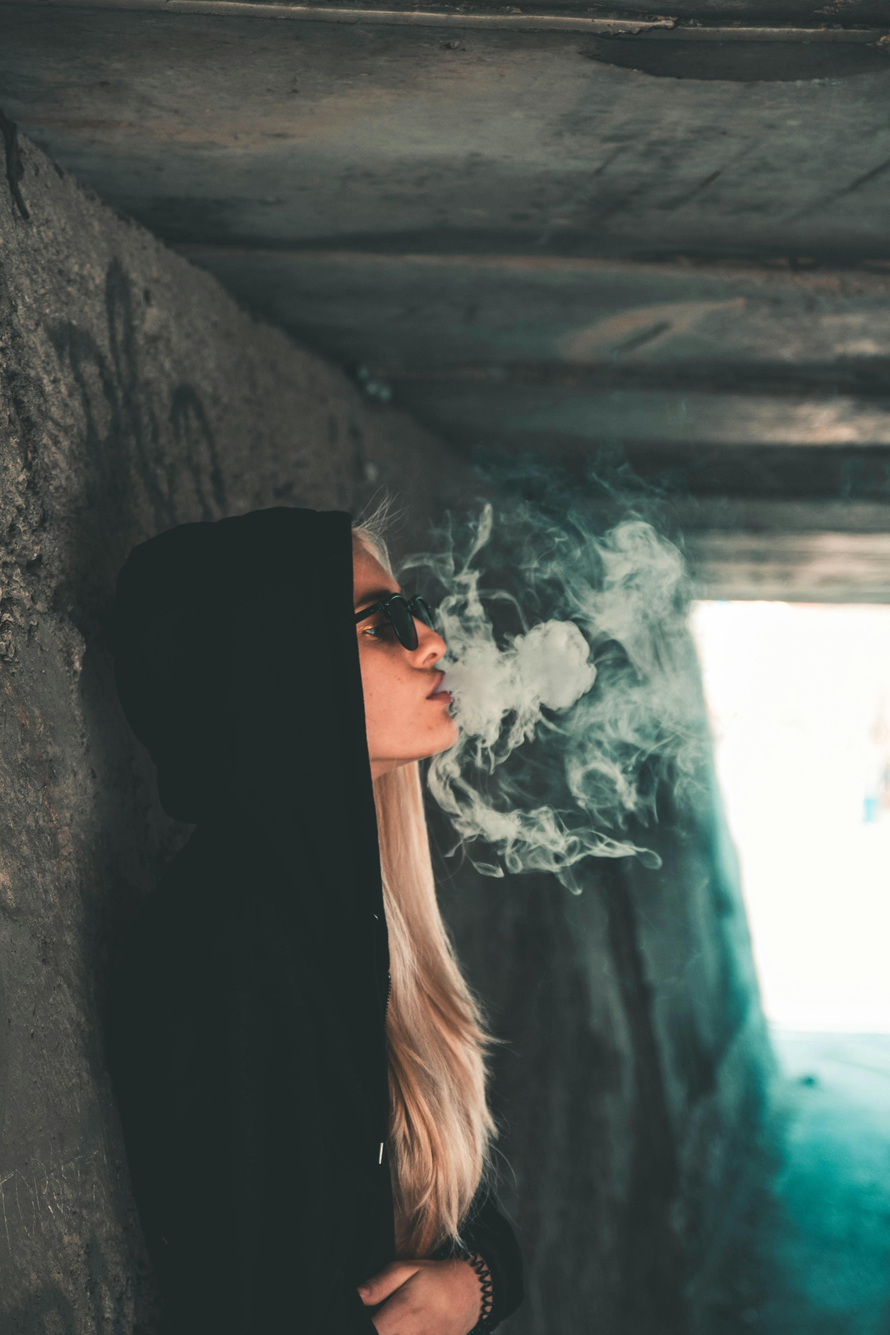smoker: (75, 374, 846, 1335)
